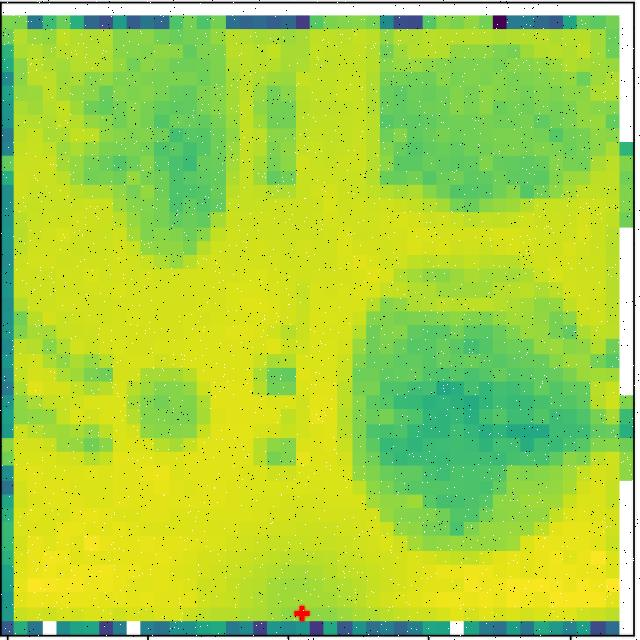Concrete: (61, 36, 240, 238)
Glass: (125, 365, 214, 452)
Metal: (381, 45, 593, 194)
Wood: (360, 299, 585, 520)
